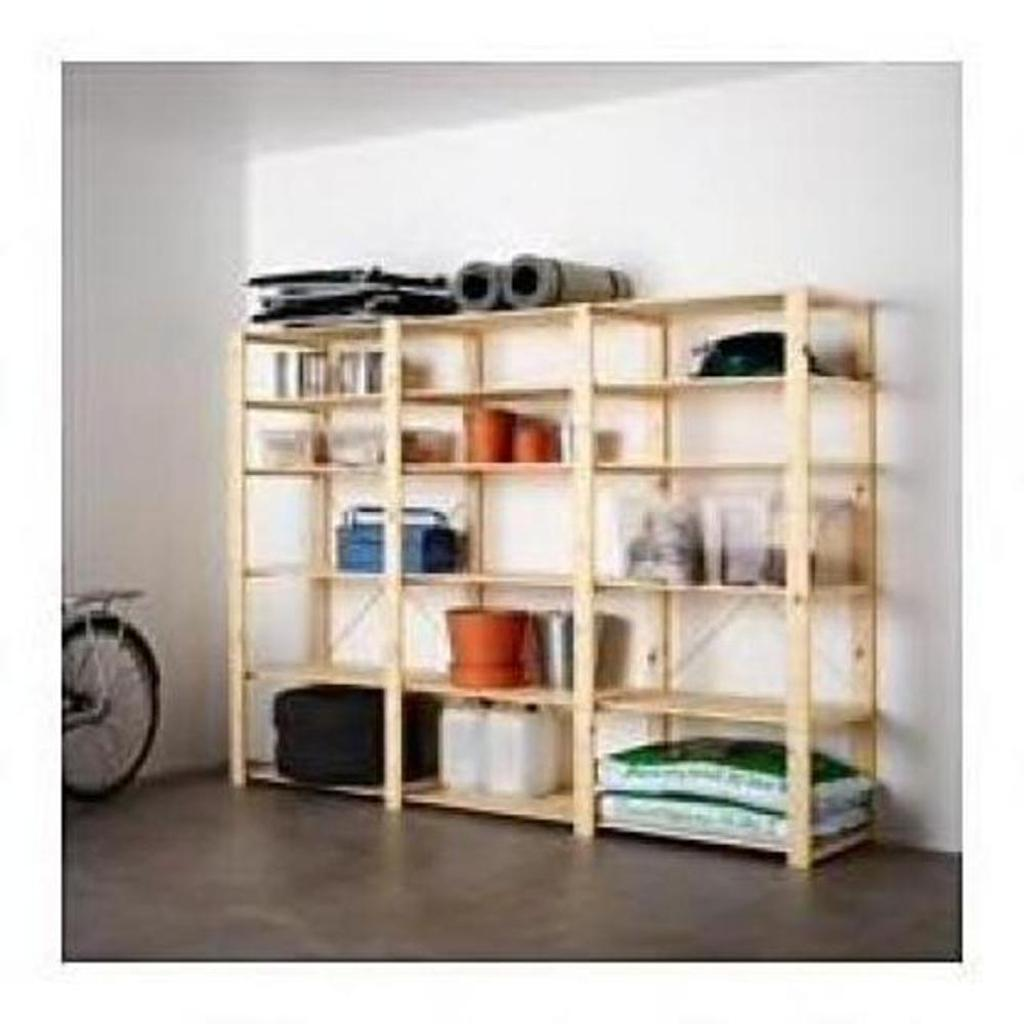lamp: (223, 285, 890, 882)
